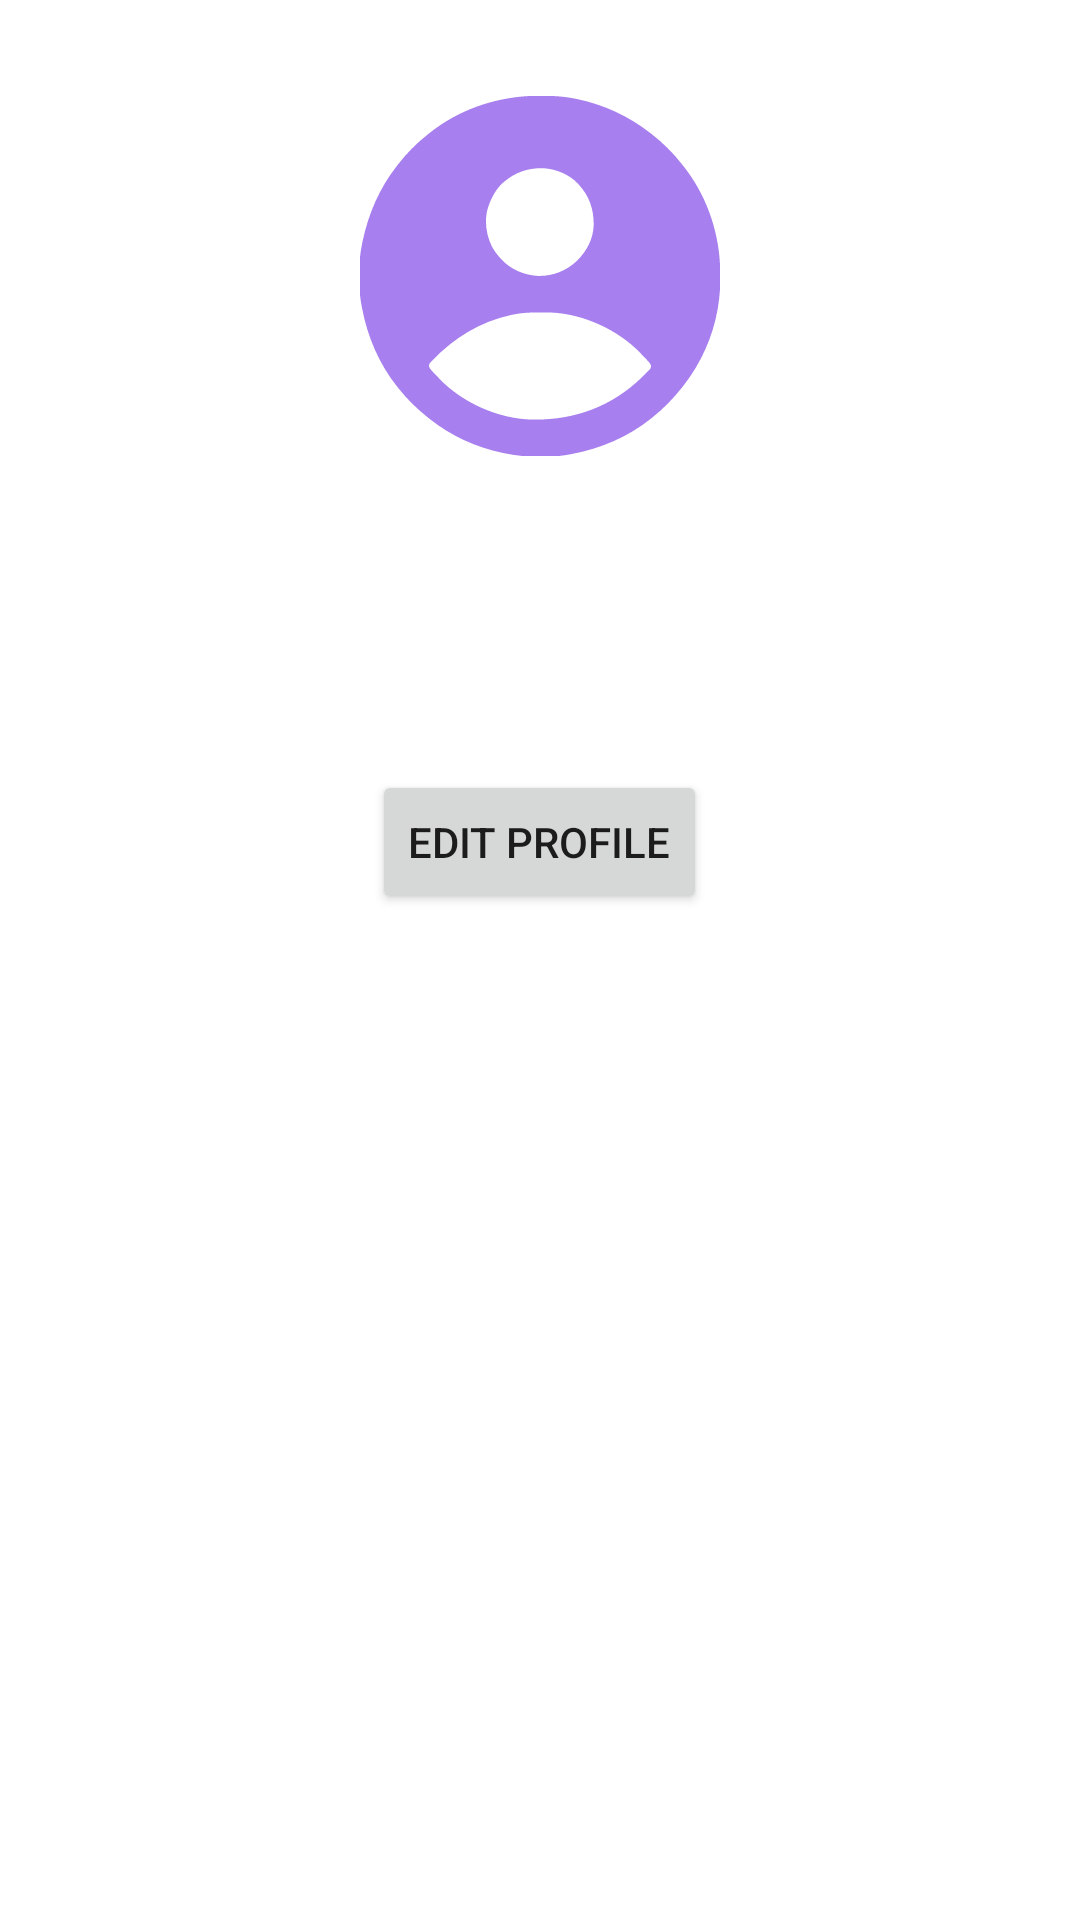

Where to tap for icons on this 1080px x 1920px app screen, as point (x, y):
Profile picture: point (540, 276)
